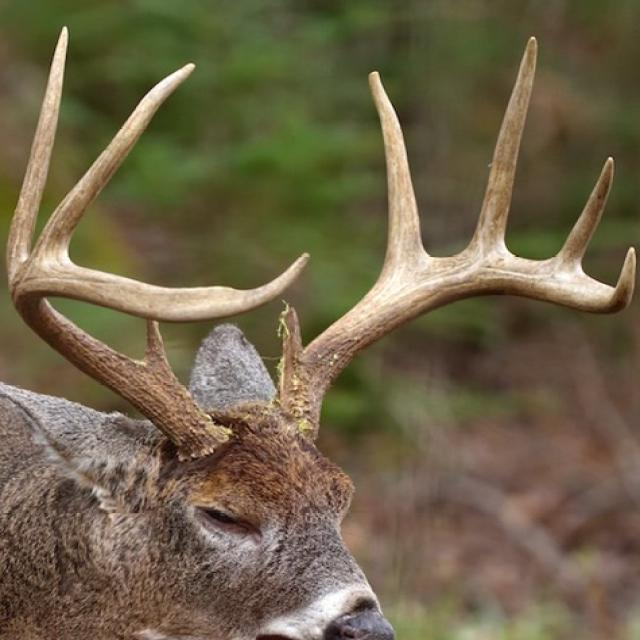L-F: (278, 246, 637, 444)
L-G1: (278, 304, 304, 387), (144, 320, 172, 371)
L-G2: (7, 25, 69, 286), (368, 70, 433, 278)
L-G3: (32, 62, 197, 259), (466, 36, 539, 252)
L-G4: (552, 156, 615, 272)
R-F: (9, 253, 312, 458)
